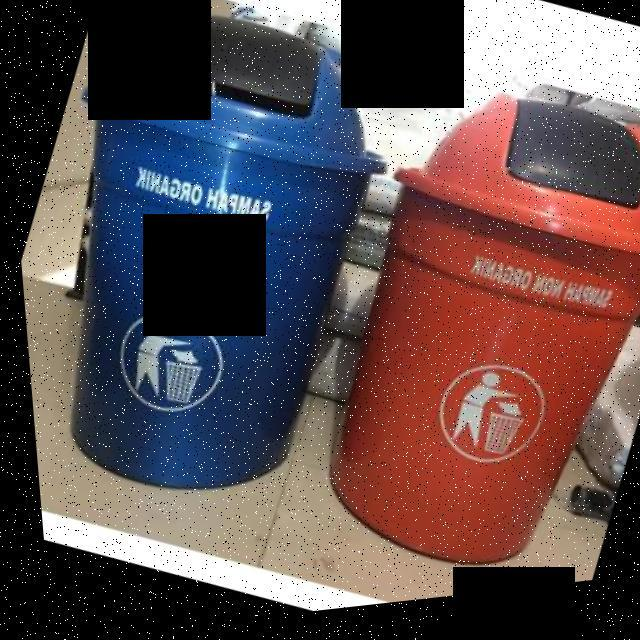bin: (0, 0, 449, 560), (251, 49, 640, 619)
